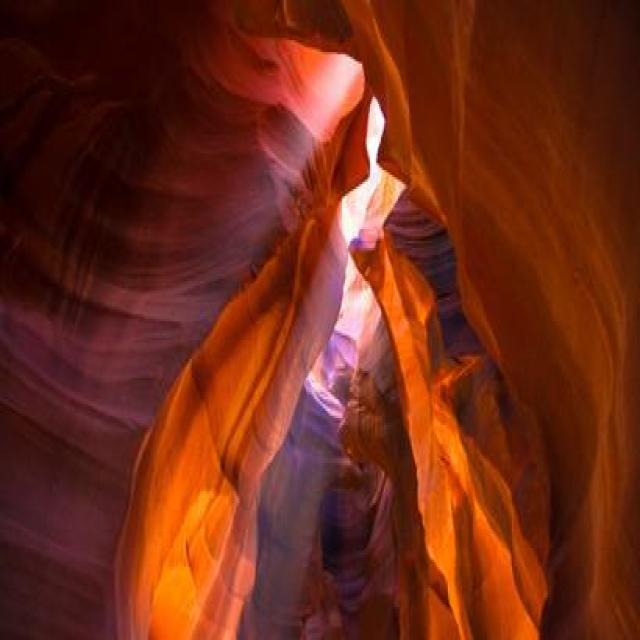other: (361, 193, 608, 615), (82, 195, 324, 619)
